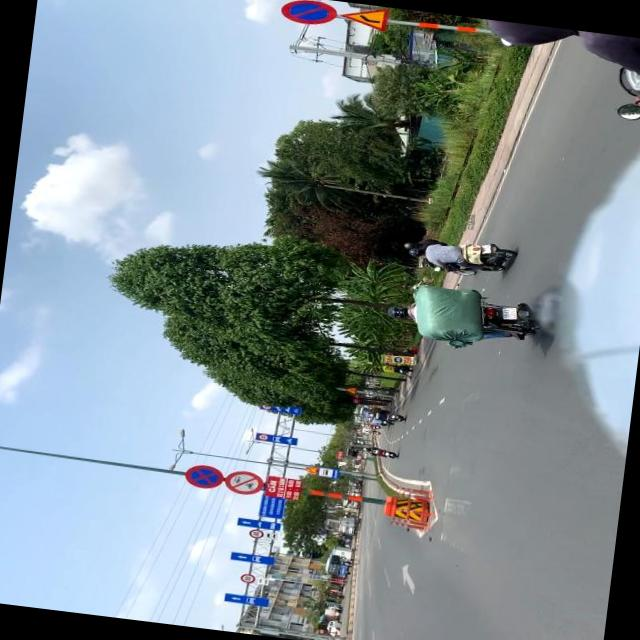P-104: (222, 469, 262, 495)
P-130: (182, 462, 224, 491)
P-131a: (276, 0, 339, 27)
W-201b: (336, 0, 390, 33)
